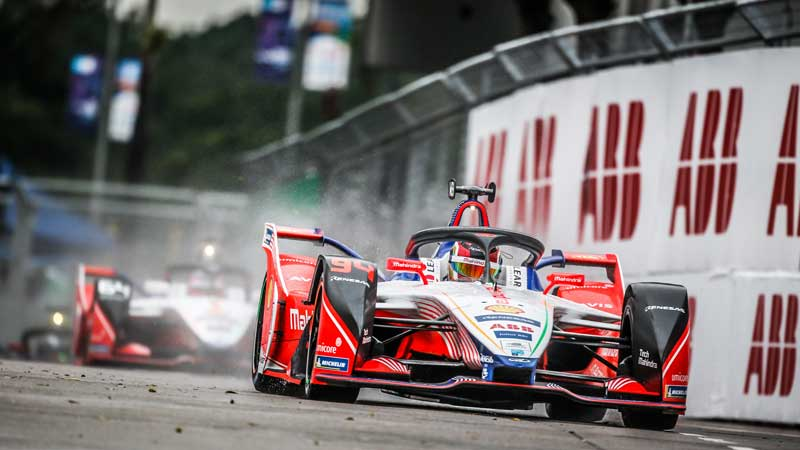f1_car: (225, 170, 706, 441)
